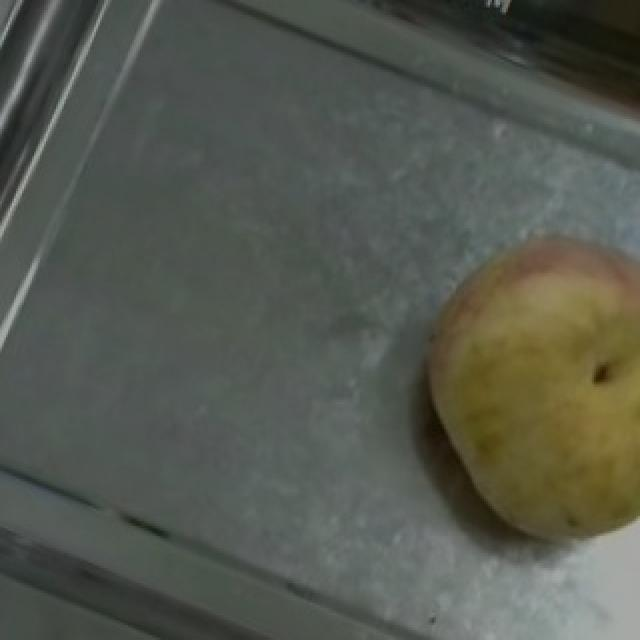Fruit: (378, 189, 640, 573)
